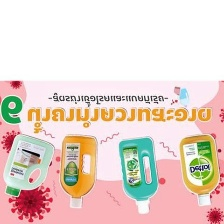cleaning_solution: (116, 133, 161, 216), (1, 130, 55, 199), (175, 131, 223, 207), (55, 132, 101, 209)
